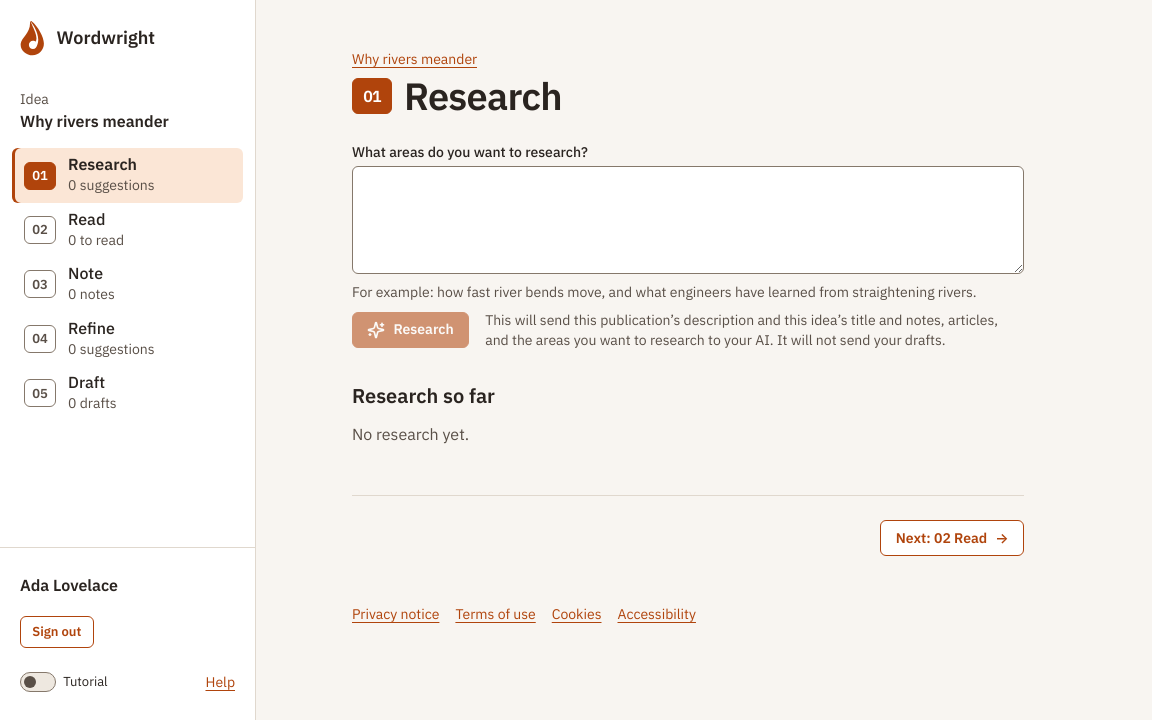
Test: the research page › says what happened when the search fails, with the AI key link for a key problem
The image size is (1152, 720).
Type "Anything" into the text box labelled "What areas do you want to research?" at coordinates (688, 220), box 352,166 -> 1024,274
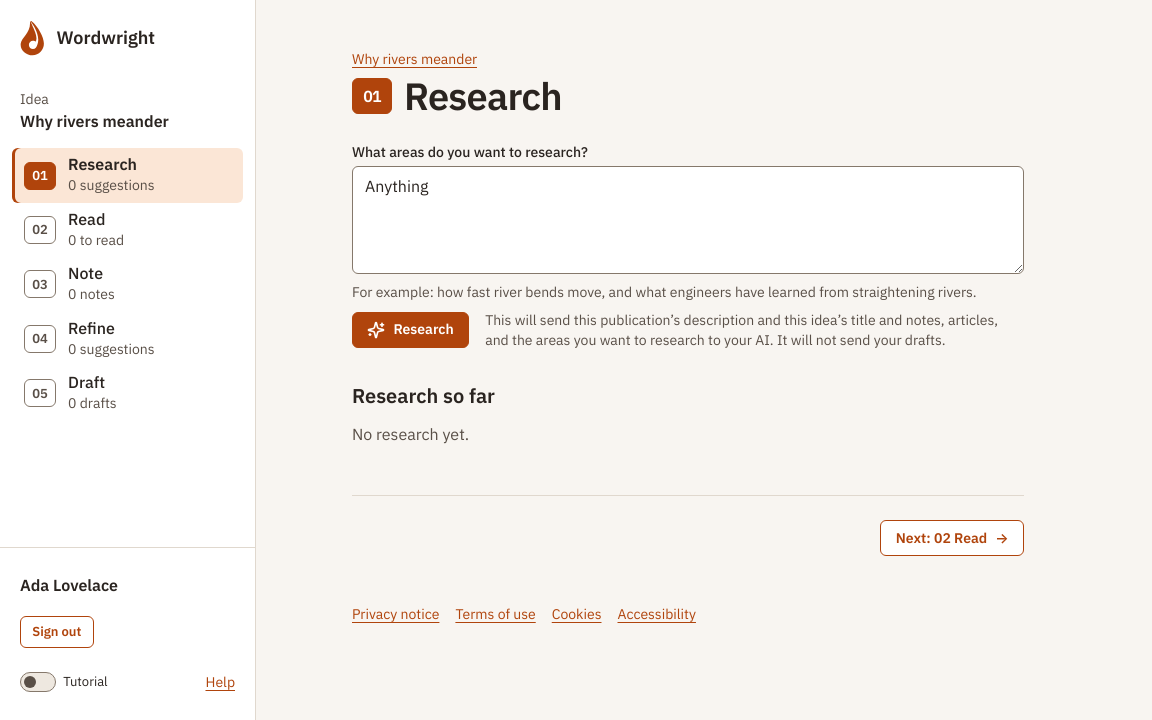
Click the button "Research" at coordinates (411, 330), box 352,312 -> 469,348
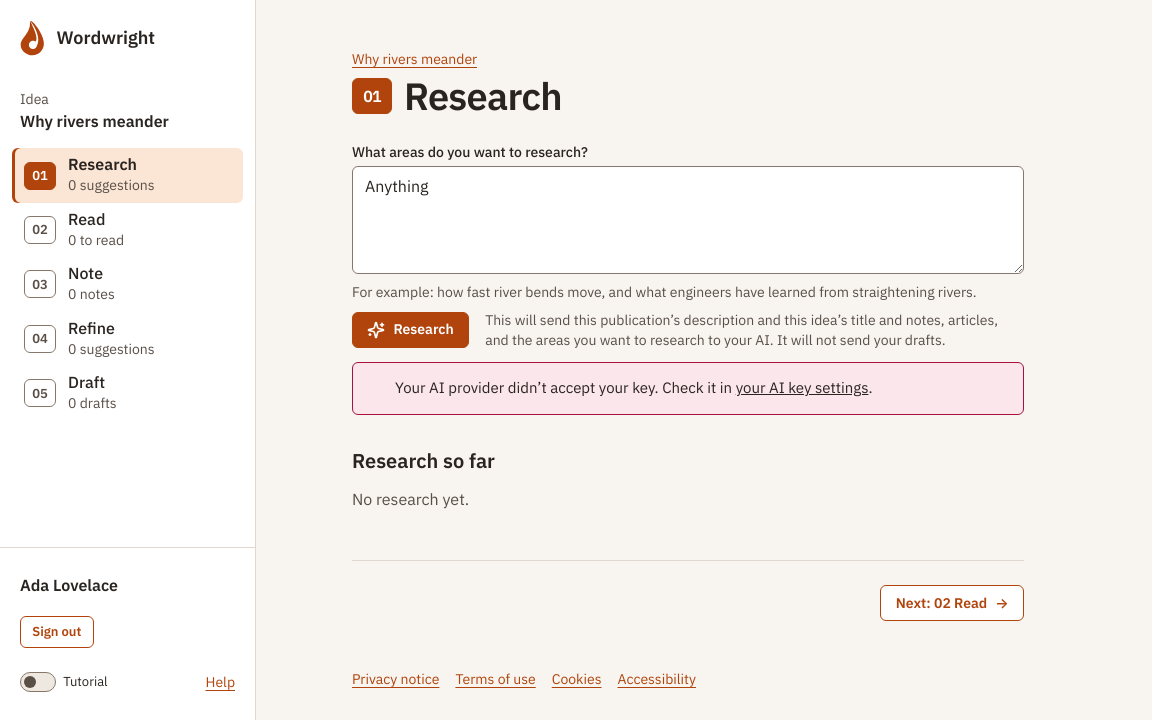
Now the message shows "Your AI provider didn’t accept your key", box 395,378 -> 736,397
